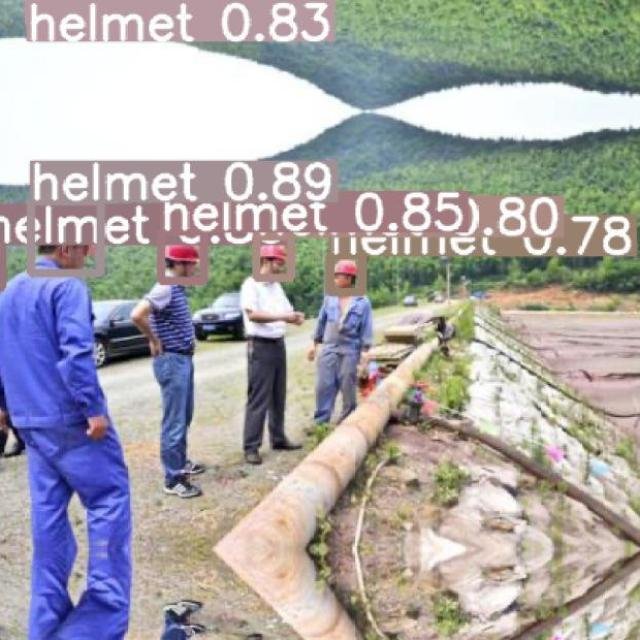helmet: (247, 224, 312, 277), (330, 250, 362, 292), (164, 244, 199, 262)
